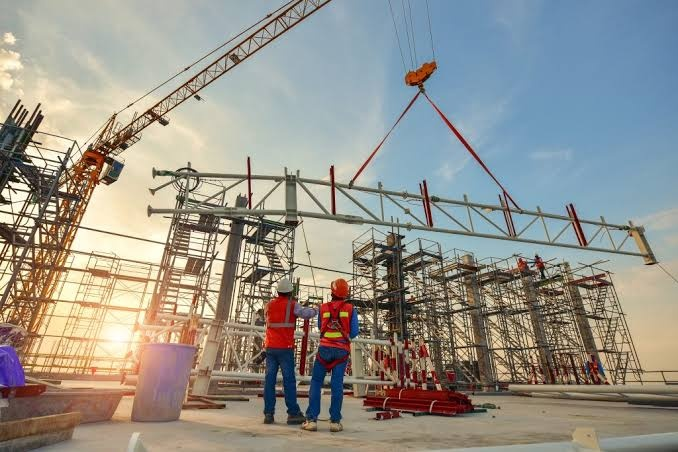crane: (9, 3, 524, 351)
hardhat: (272, 276, 296, 295), (328, 279, 352, 298)
person: (300, 277, 371, 433), (254, 269, 306, 431)
safety_vest: (264, 293, 306, 354), (317, 300, 356, 350)
